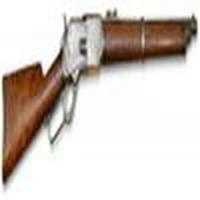gun: (3, 16, 200, 164)
